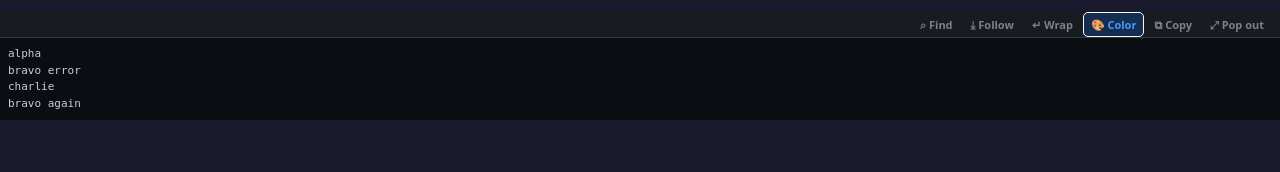
Scenario: RunOutputView find › clears the query (and highlights) when the find box is closed
The image size is (1280, 172).
Click the button with test id "run-output-btn-find": (936, 24) x1=912 y1=12 x2=961 y2=37
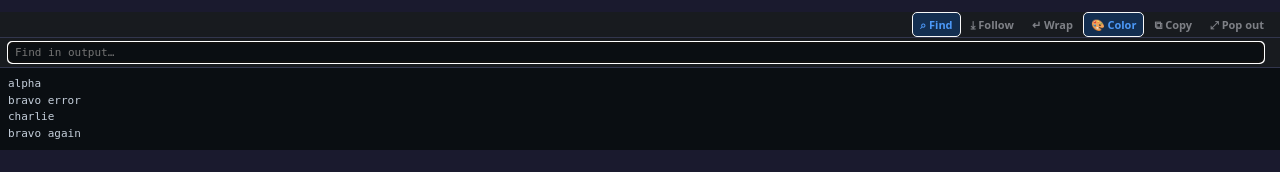
In the field with test id "run-output-find-input": (636, 52) x1=8 y1=42 x2=1264 y2=63, type "bravo"
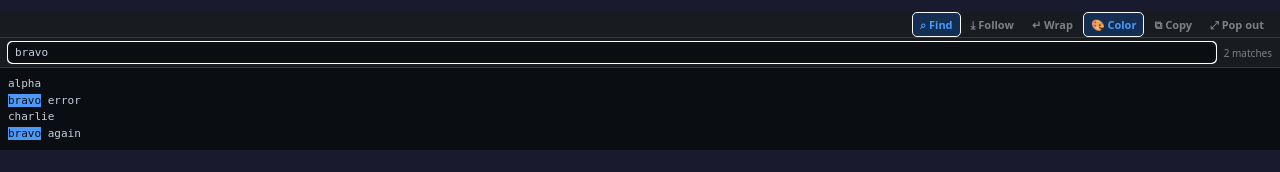
Expected: the text "bravo" next to "error" is shown, x1=8 y1=94 x2=41 y2=106
Click the button with test id "run-output-btn-find": (936, 24) x1=912 y1=12 x2=961 y2=37
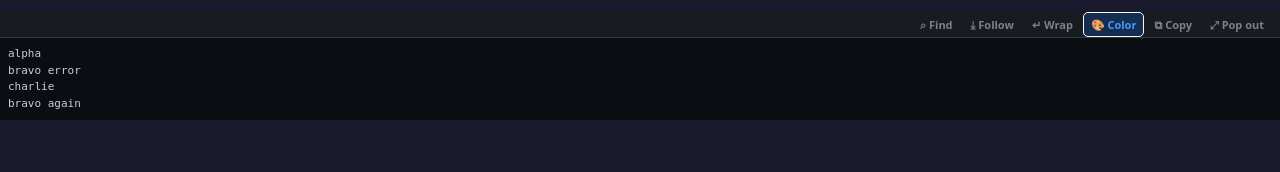
Expected: the field with test id "run-output-find-input" is gone
